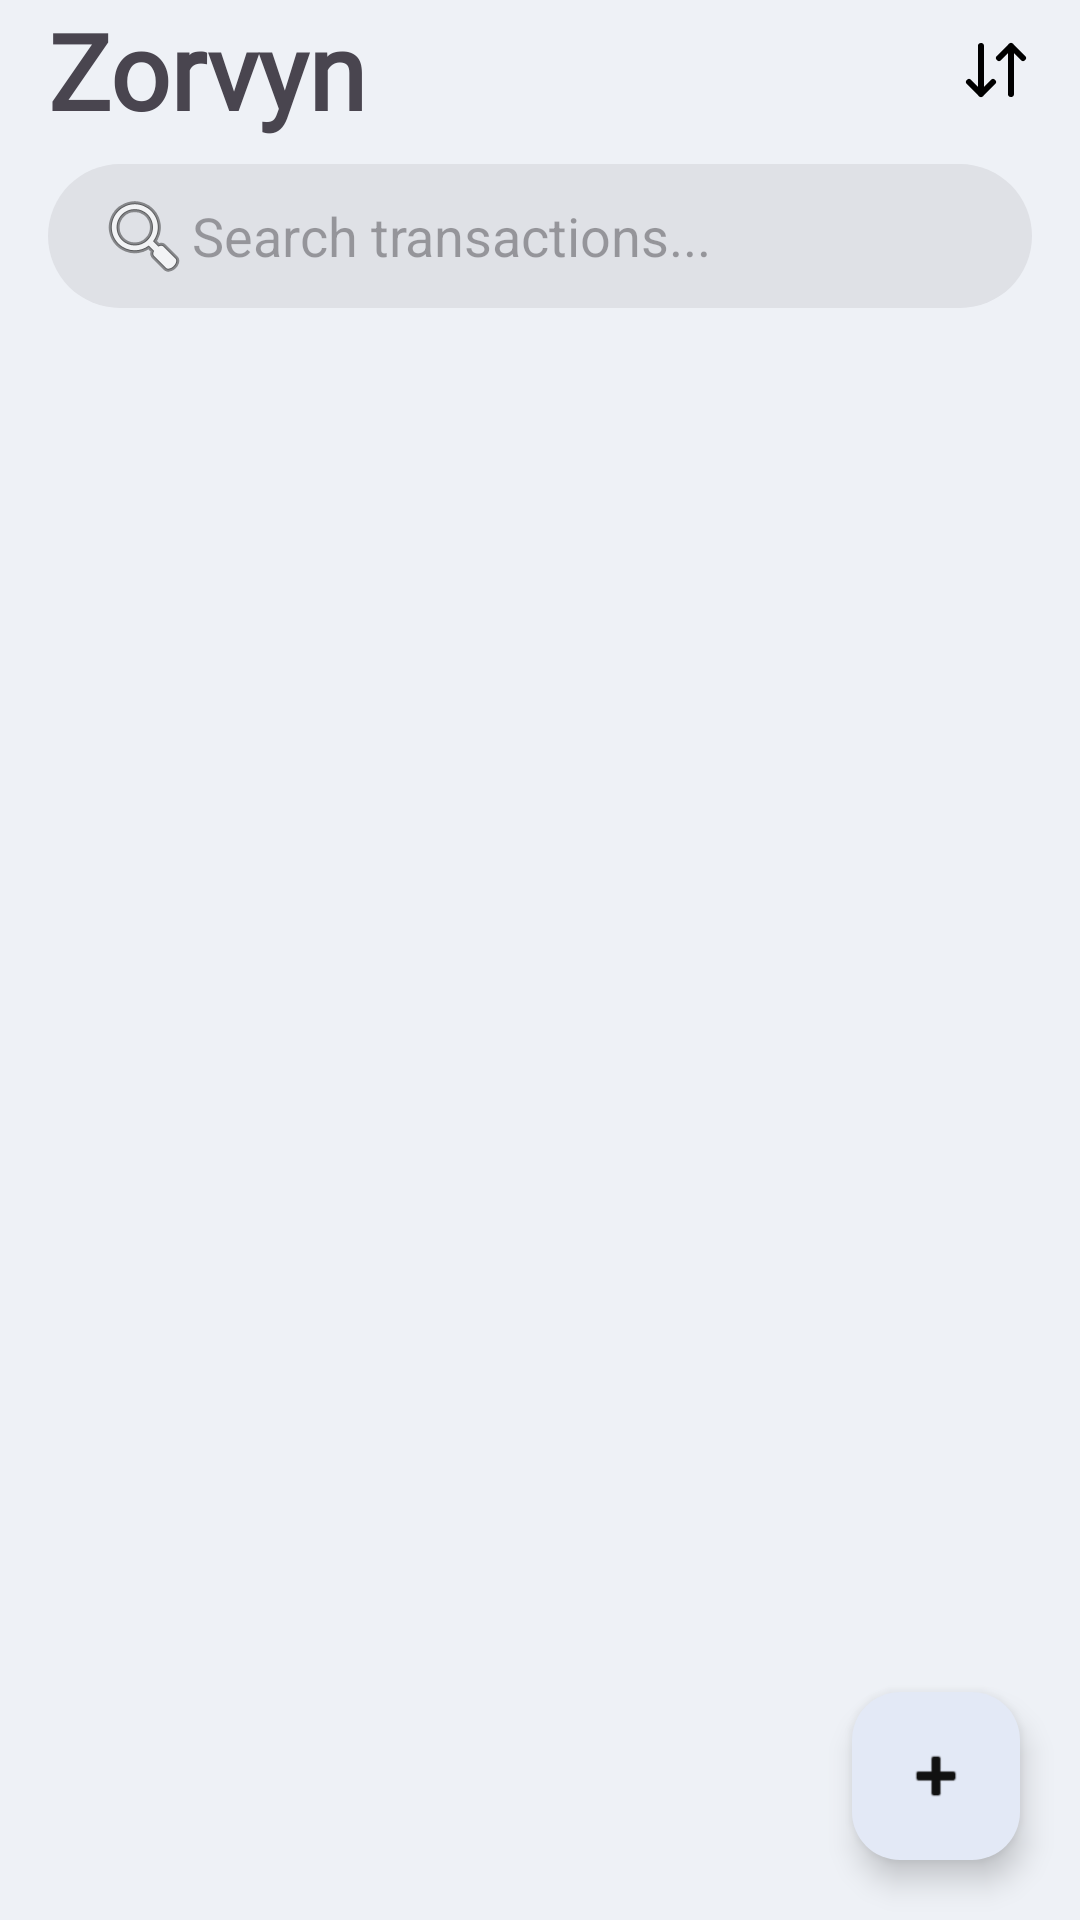

Icons on this 1080x1920 Android screen, each with the point to tap as [x,y]:
add: [936,1776]
sort: [996,70]
